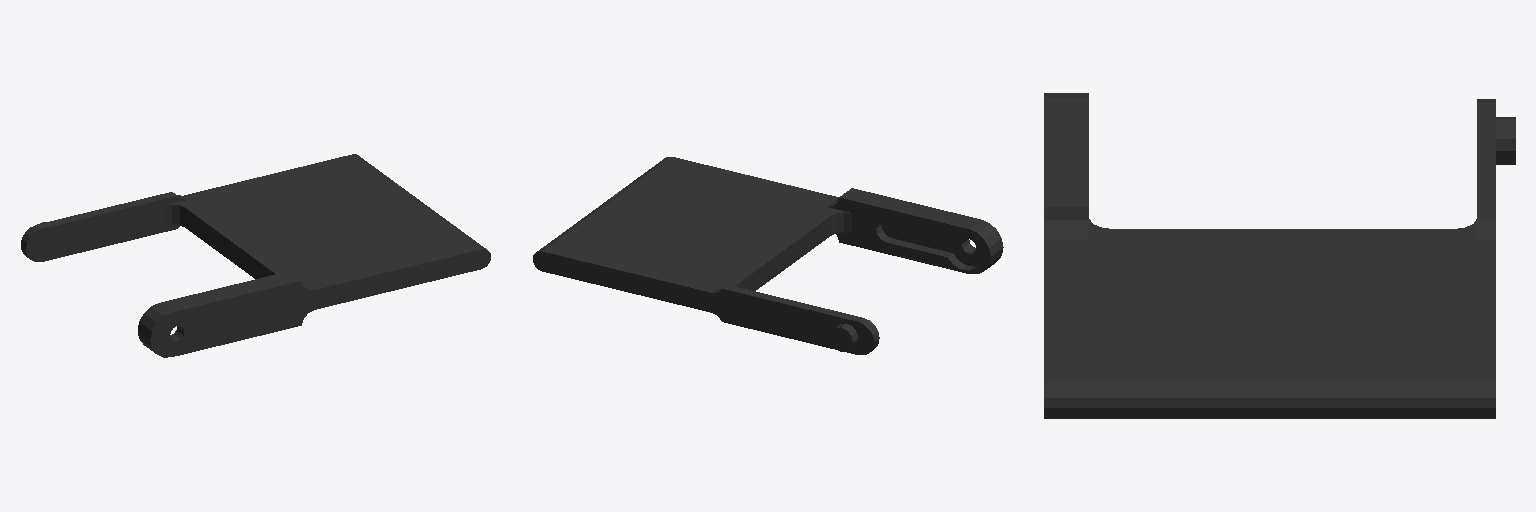
robot.urdf — Arm2:
<?xml version="1.0" encoding="utf-8"?>
<!-- This URDF was automatically created by SolidWorks to URDF Exporter! Originally created by [author] ([email redacted]) 
     Commit Version: 1.5.1-0-g916b5db  Build Version: 1.5.7152.31018
     For more information, please see http://wiki.ros.org/sw_urdf_exporter -->
<robot
  name="Arm2">
  <link
    name="Arm2">
    <inertial>
      <origin
        xyz="0.029809 -0.018645 5.48789273350911E-19"
        rpy="0 0 0" />
      <mass
        value="0.0039781" />
      <inertia
        ixx="5.233E-07"
        ixy="-8.0787E-08"
        ixz="-4.94661367531242E-24"
        iyy="6.4754E-07"
        iyz="3.1445441953451E-23"
        izz="1.1611E-06" />
    </inertial>
    <visual>
      <origin
        xyz="0 0 0"
        rpy="1.5707963267949 0 0" />
      <geometry>
        <mesh
          filename="package://Arm2/meshes/Arm2.STL" />
      </geometry>
      <material
        name="">
        <color
          rgba="0.25098 0.25098 0.25098 1" />
        <texture
          filename="package://Arm2/textures/" />
      </material>
    </visual>
    <collision>
      <origin
        xyz="0 0 0"
        rpy="1.5707963267949 0 0" />
      <geometry>
        <mesh
          filename="package://Arm2/meshes/Arm2.STL" />
      </geometry>
    </collision>
  </link>
</robot>

--- Facts derived from the render (not from the file) ---
3 views of the same robot in one strip: view 1: azimuth 30°, elevation 25°; view 2: azimuth 150°, elevation 25°; view 3: azimuth 270°, elevation 25° (orthographic).
Model Arm2 with 1 links and 0 joints (none), rooted at Arm2, posed all joints at 0.
Visible links, largest first — view 1: Arm2; view 2: Arm2; view 3: Arm2.
Link boxes in pixels (x1,y1,x2,y2): Arm2: (21,154,490,357); Arm2: (533,157,1003,354); Arm2: (1044,93,1515,418).
Bounding box of the posed robot: 0.0535 × 0.0367 × 0.0068 m (x, y, z).
1 mesh visuals loaded from 1 distinct referenced files (1 binary STL).